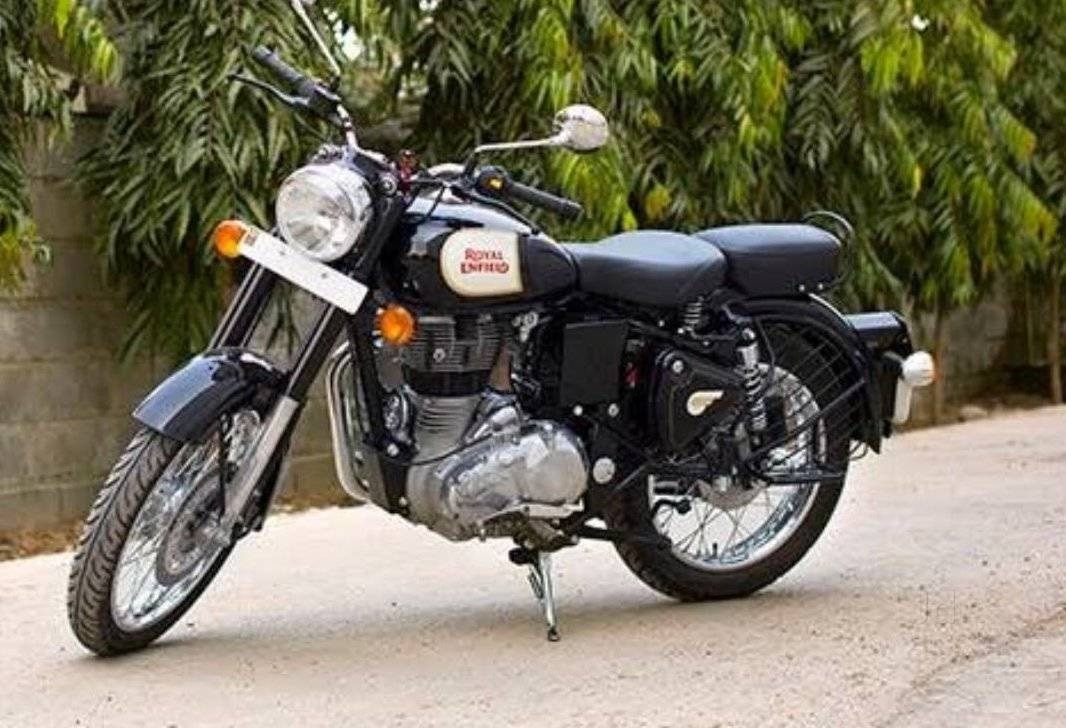bike: (65, 34, 909, 666)
